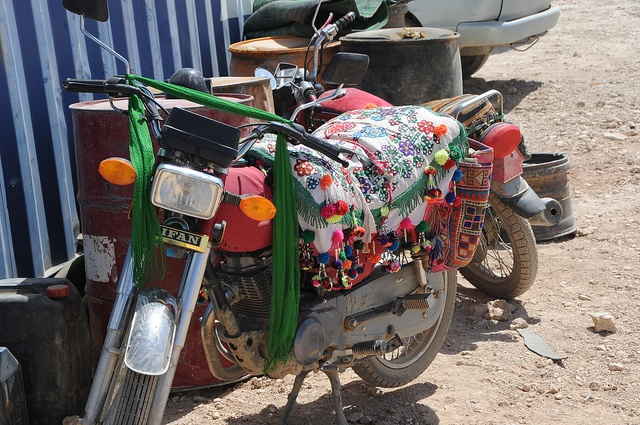non-vehicle: (61, 0, 464, 420), (256, 13, 563, 297)
